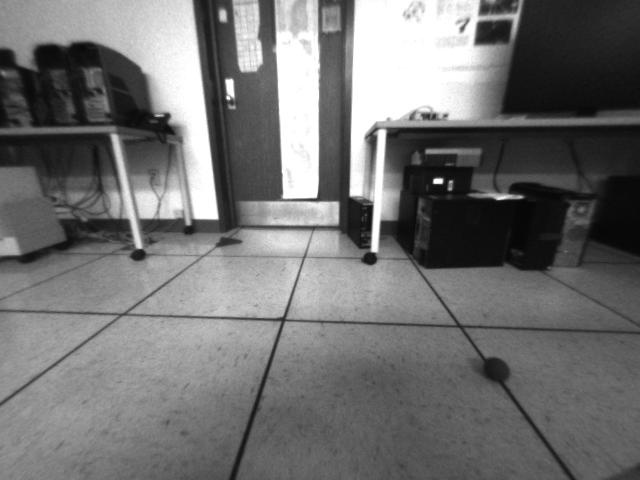dogtoy: (475, 351, 515, 388)
